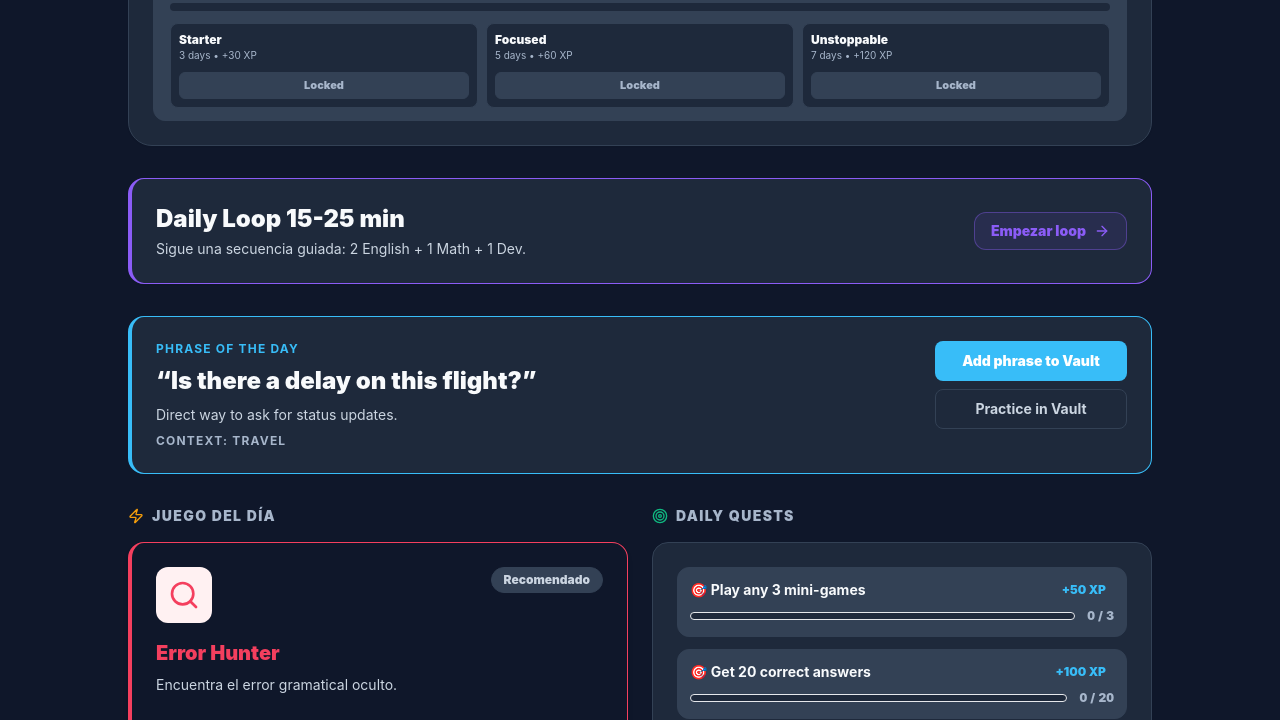
it: HomeView › adds daily phrase to vault and updates CTA
The image size is (1280, 720).
(page scrolled)
What coordinates should you click on to do the following:
click the button "Add phrase to Vault"
I would click on:
 (1031, 360)
Its box is [935,340,1127,380].
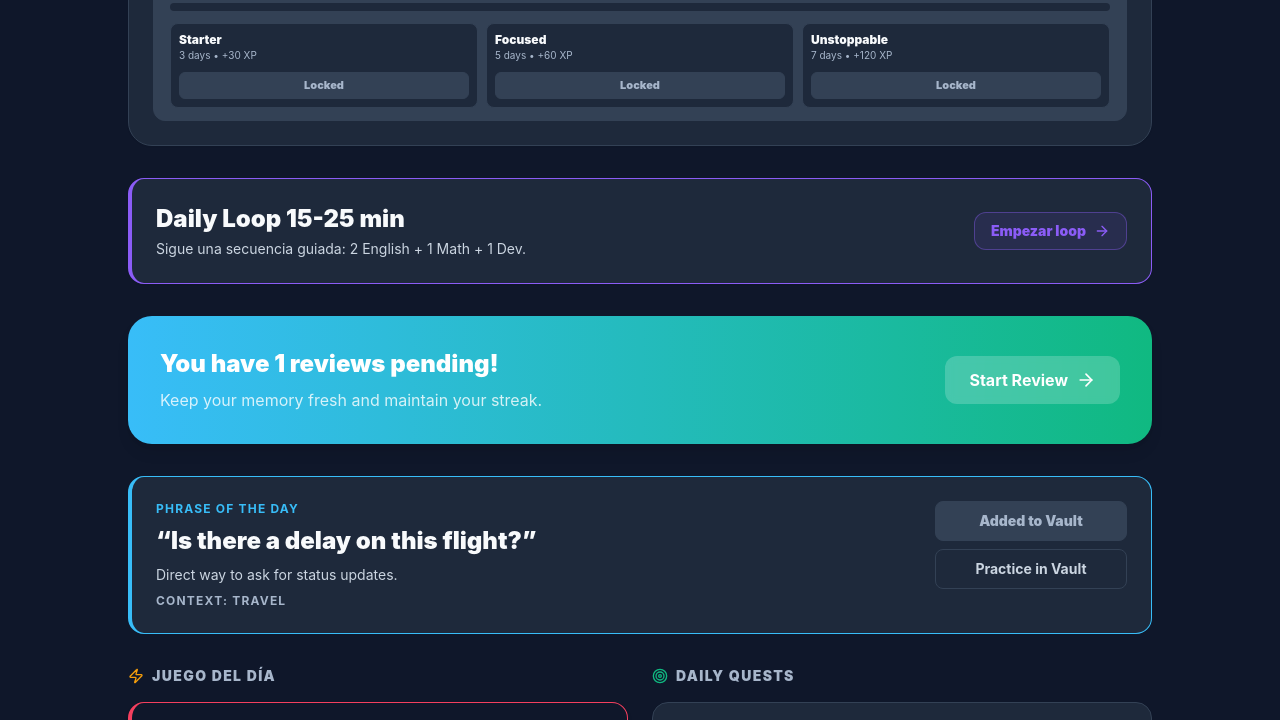
Expected: the button "Added to Vault" is disabled, [935,500,1127,540]
